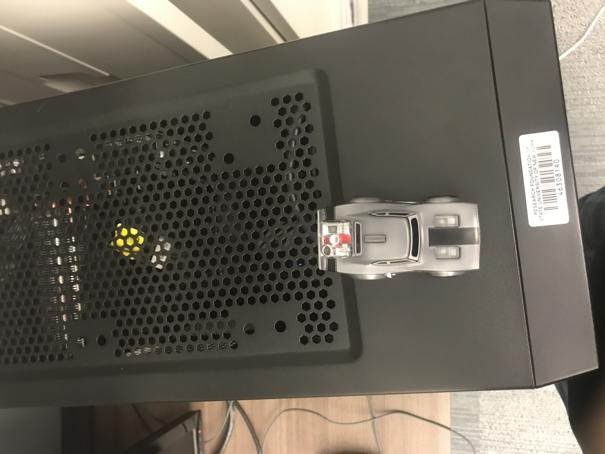Charger: (314, 193, 484, 282)
